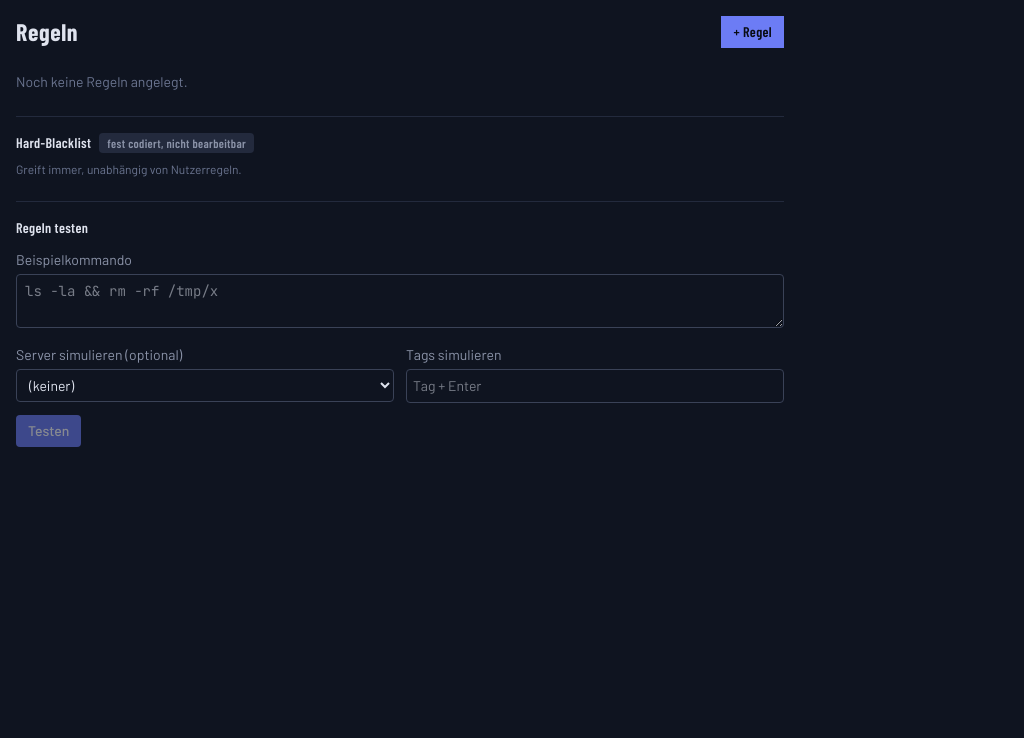
Regel-Formular bei ungültigem Muster (Spec 0077, T-6) › zeigt den übersetzten Satz UND den Fehlertext der Bibliothek
Click the button "+ Regel". click: [753, 32]
box: [721,16,784,48]
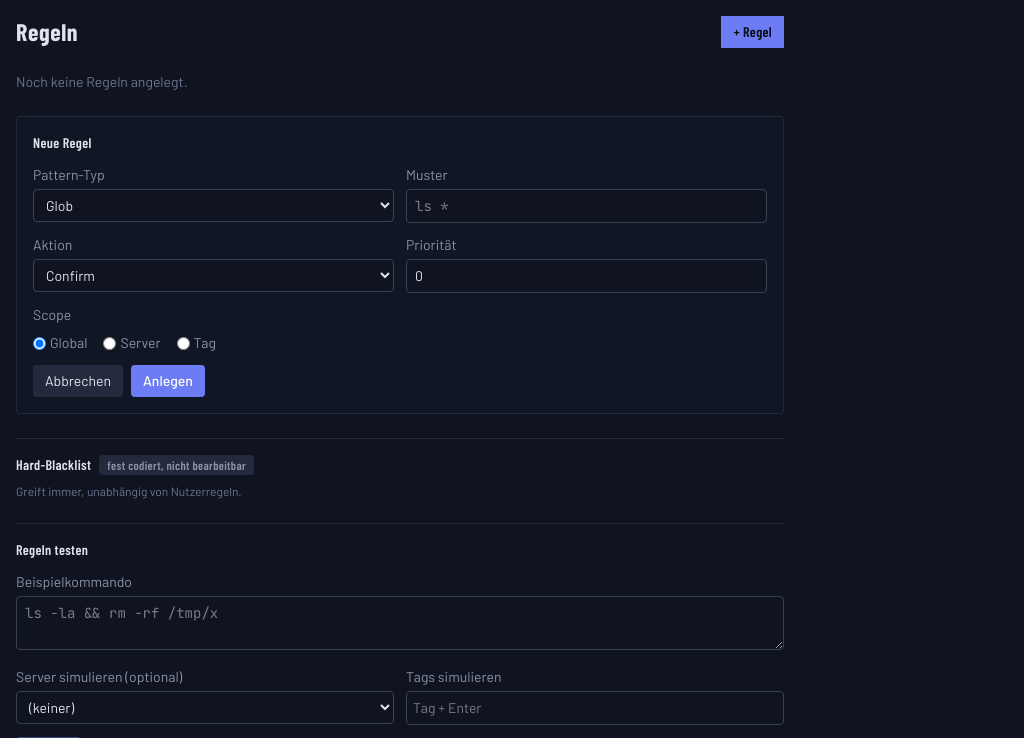
Type "^systemctl stop (.*" into the field with placeholder "ls *". click: [586, 206]
box: [406,189,767,223]
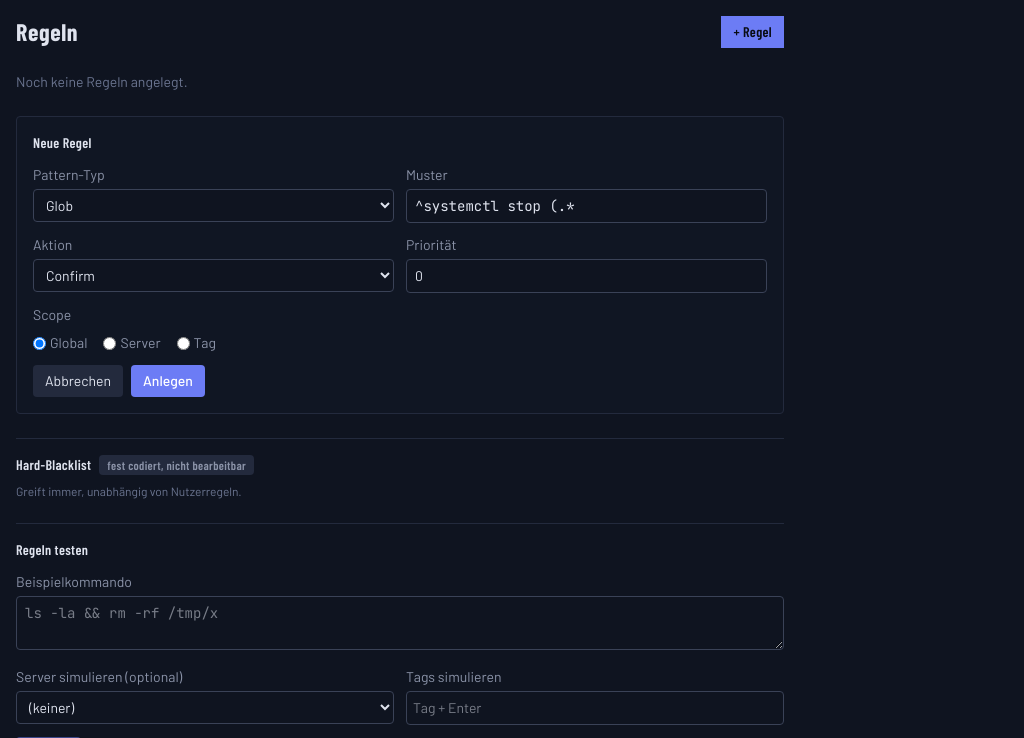
Click the button "Anlegen". click: [168, 381]
box: [131,365,205,397]
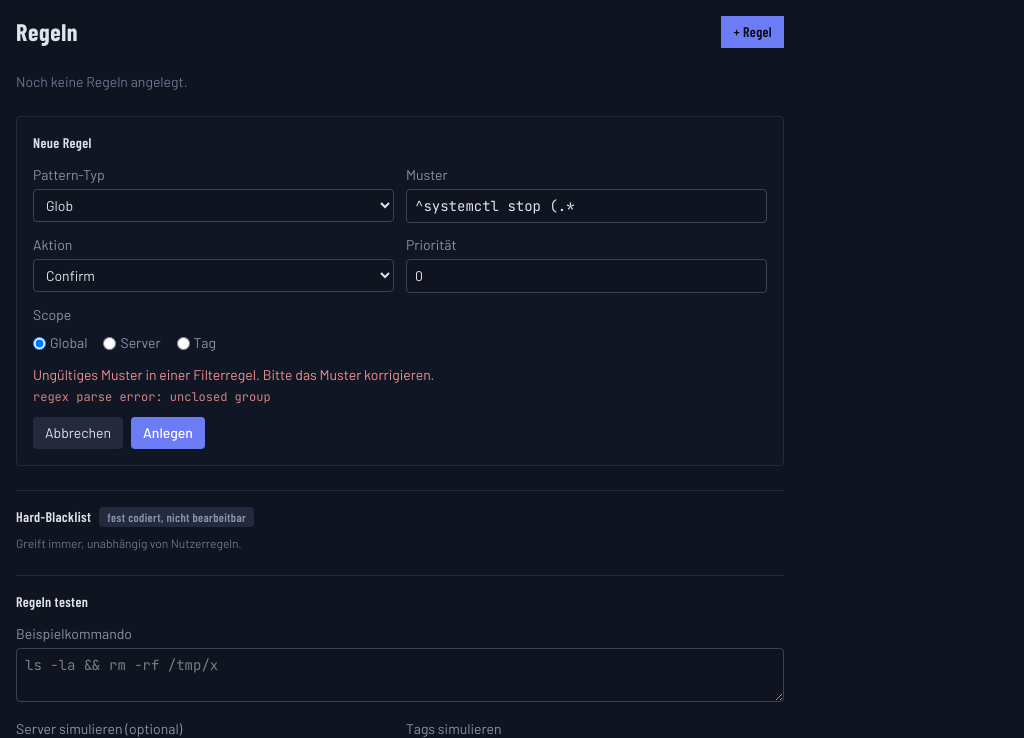
Check: the text "Ungültiges Muster in einer Filterregel. Bitte das Muster korrigieren." is shown, box [33,366,434,383]
Check: the text "regex parse error: unclosed group" is shown, box [33,389,271,405]
